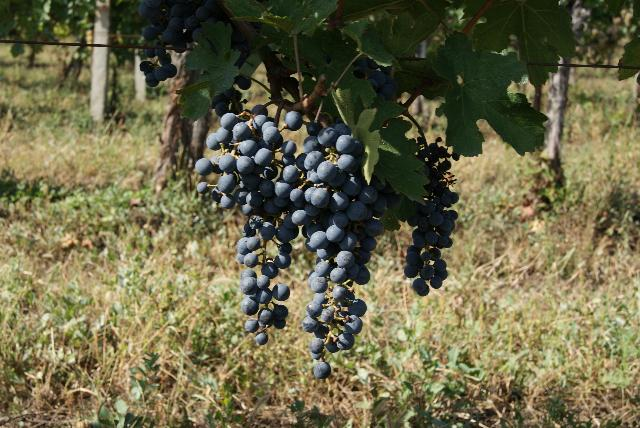grapes: (296, 122, 400, 379), (226, 135, 325, 344), (404, 136, 460, 296), (195, 90, 271, 201)
